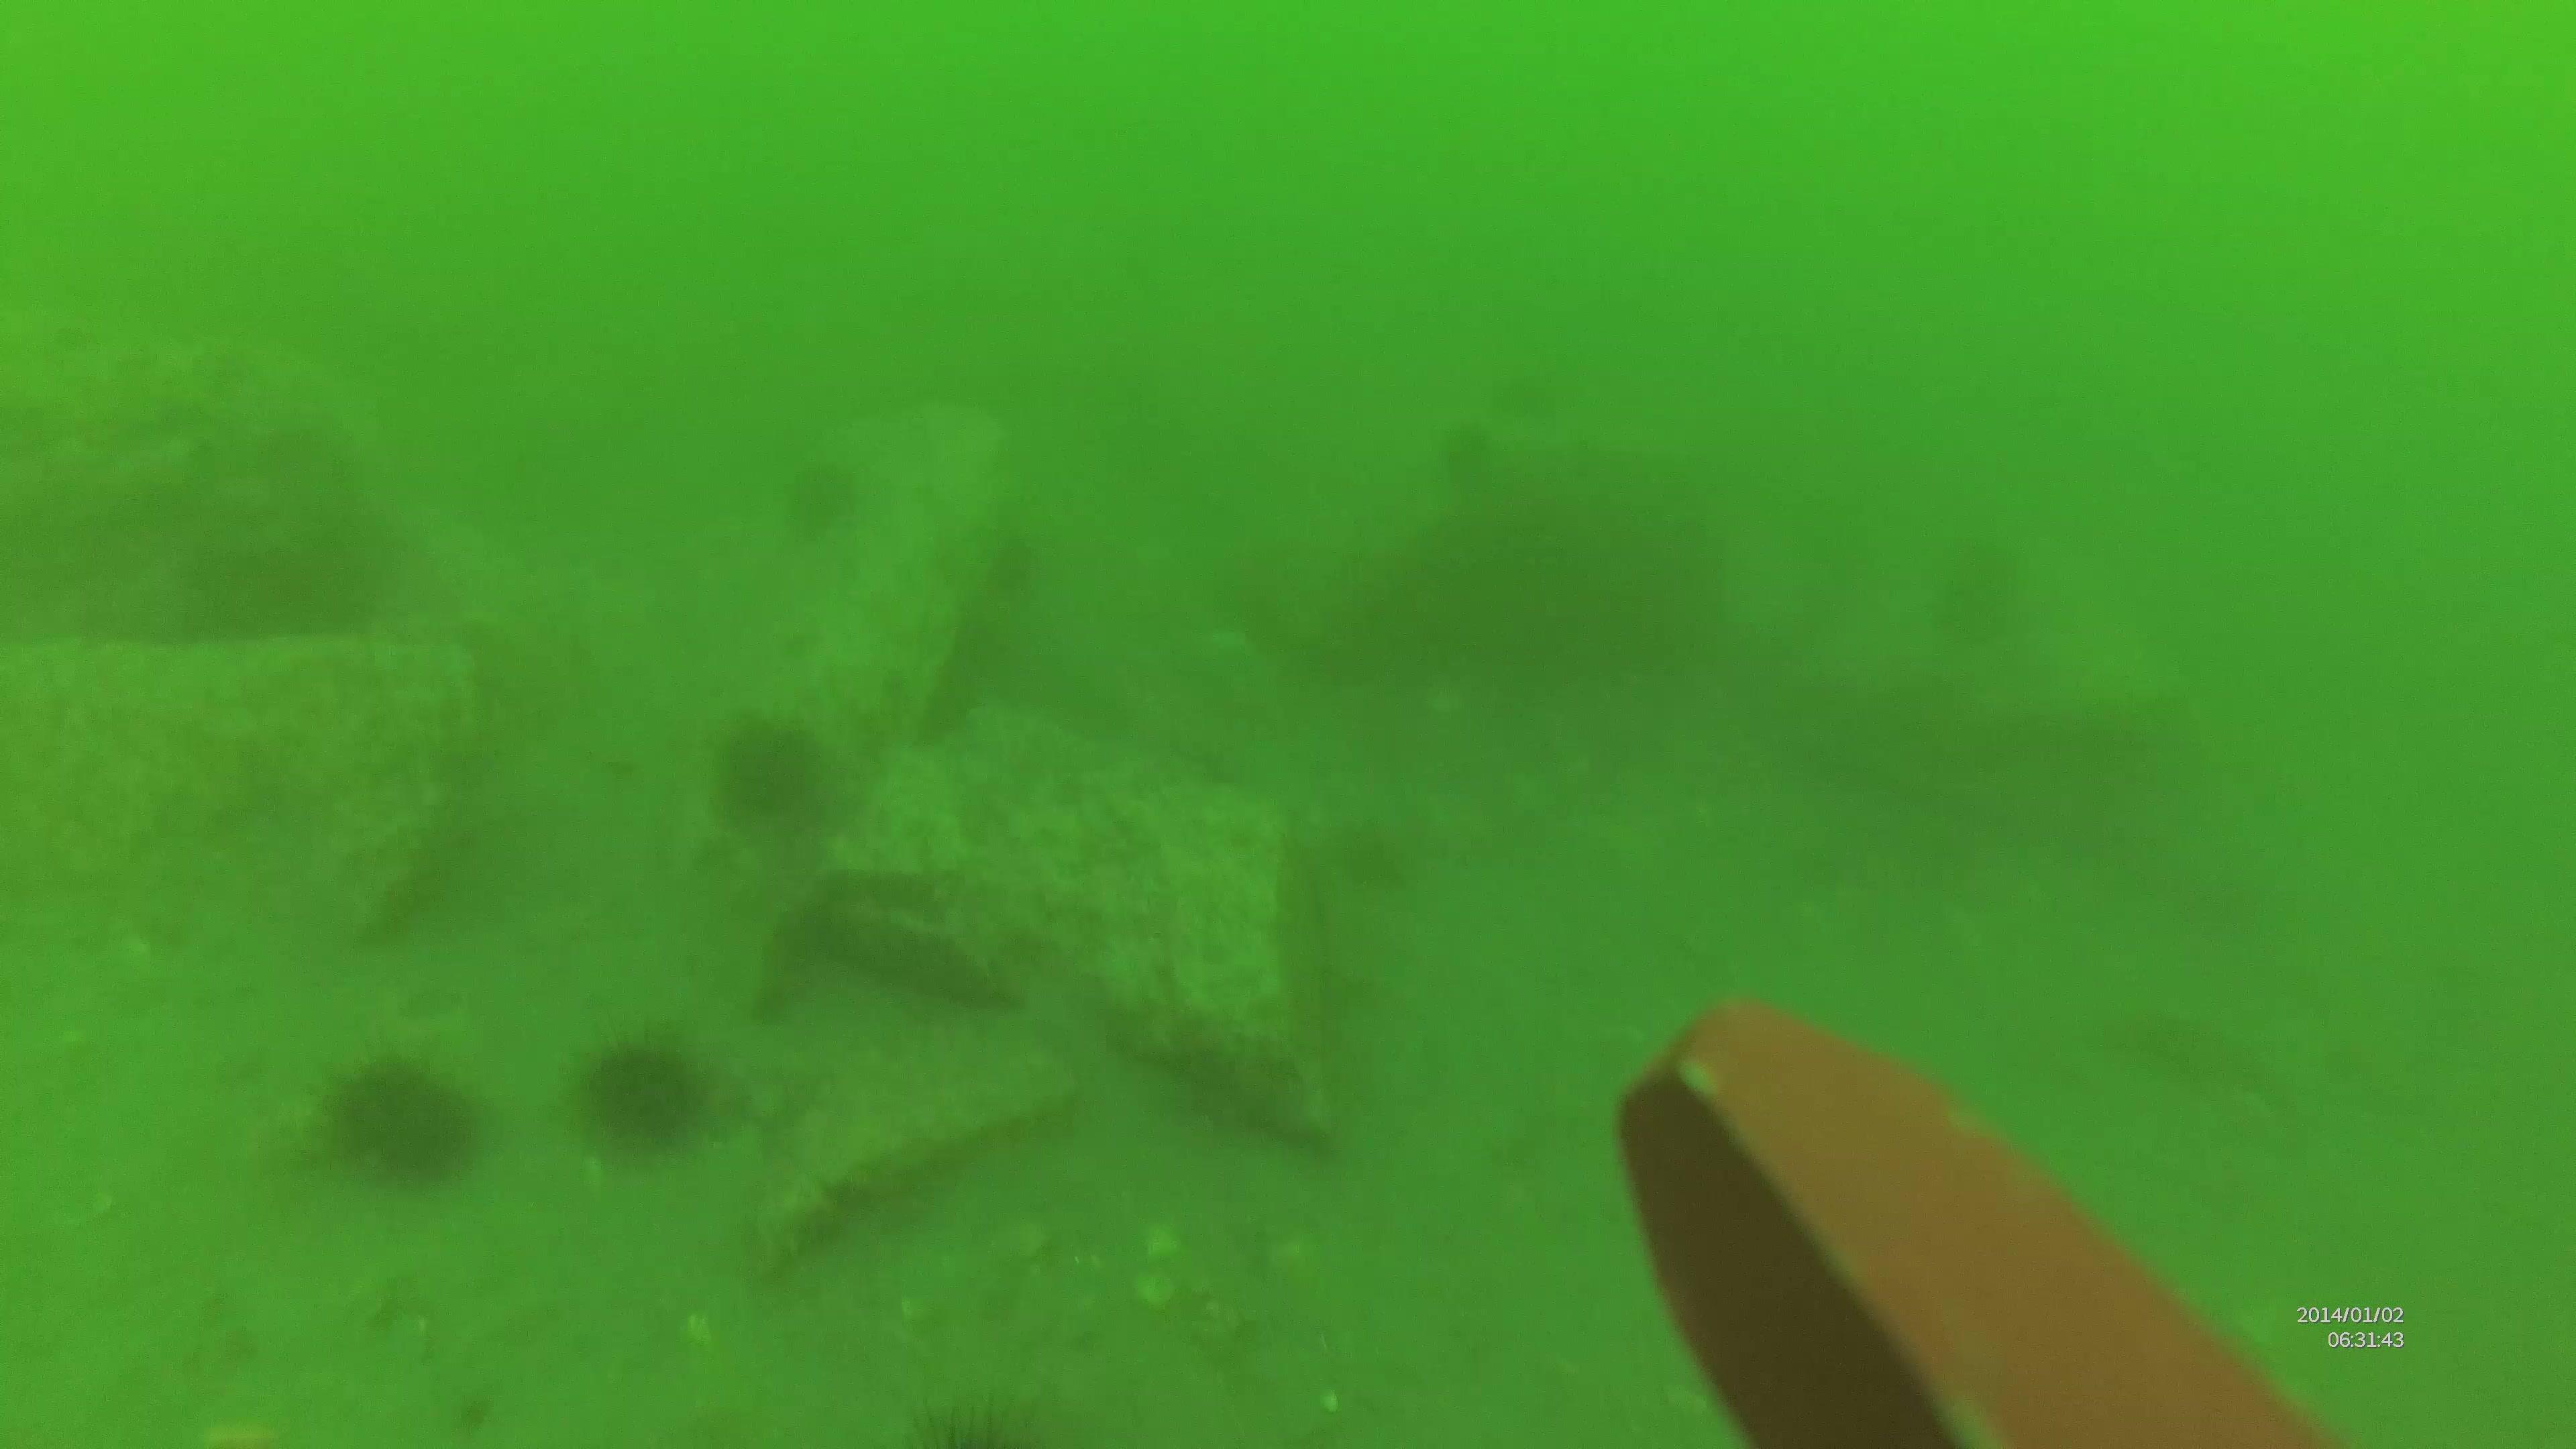echinus: (304, 1047, 481, 1182), (563, 1030, 701, 1152), (706, 713, 819, 824)
